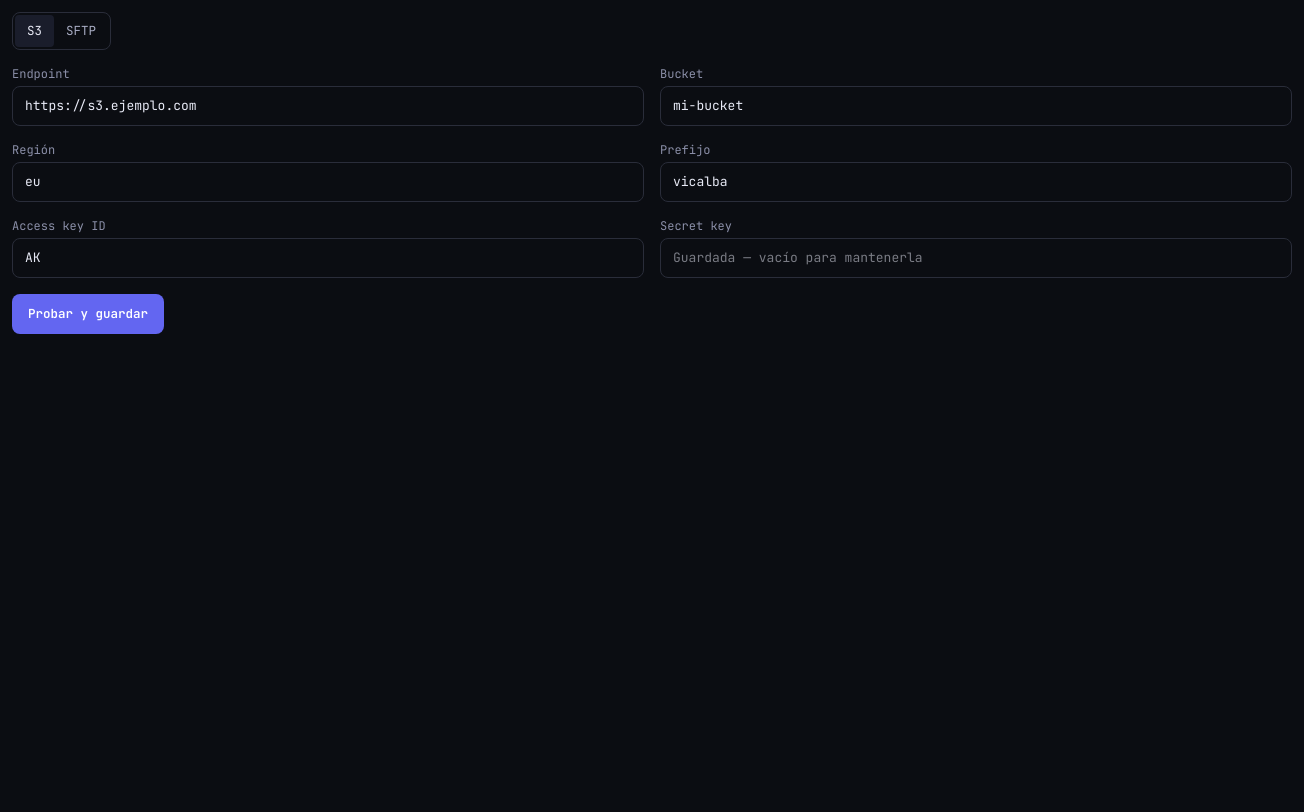
Scenario: DestinoBackupForm › S3: envía el destino con la secret key vacía si no se cambia
Click the button "Probar y guardar": point(88, 314) [12,294,164,334]
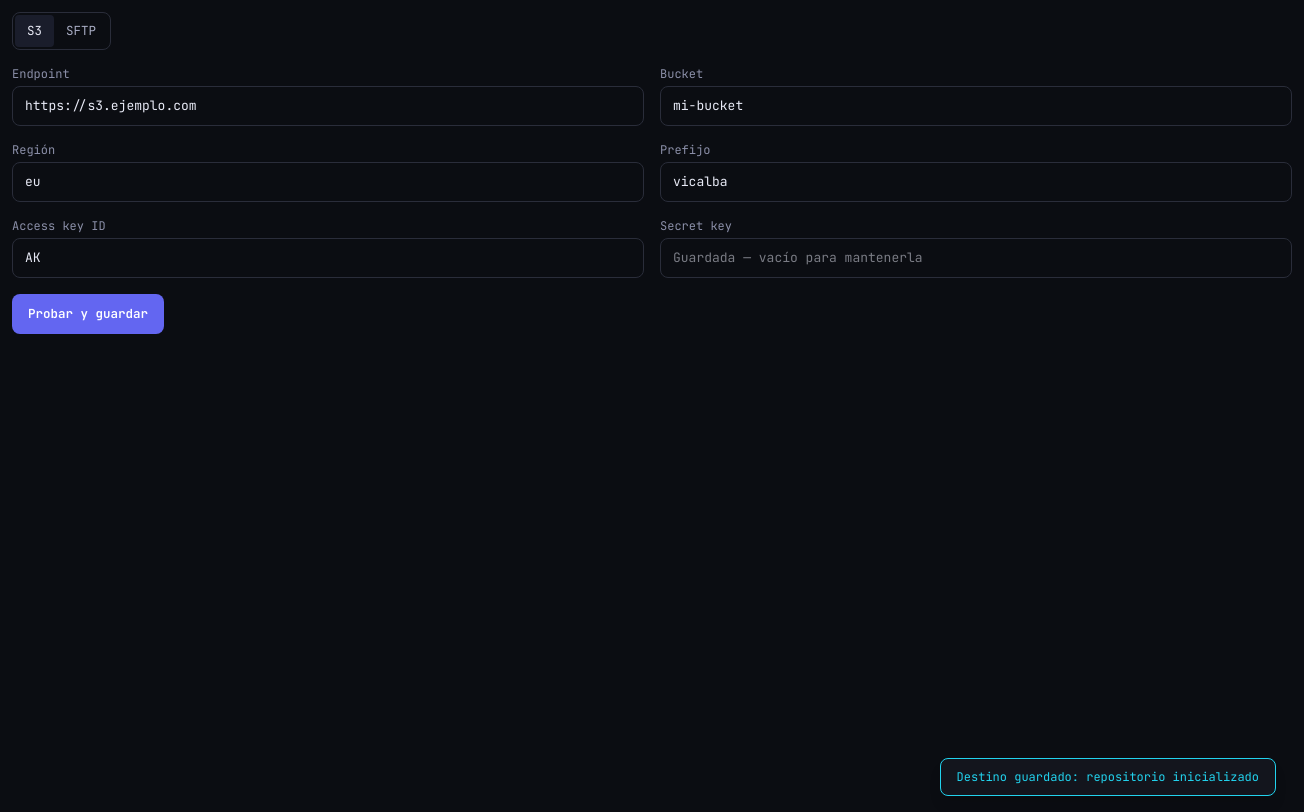
Expected: the text "Destino guardado: repositorio inicializado" is shown, [940,758,1276,796]
